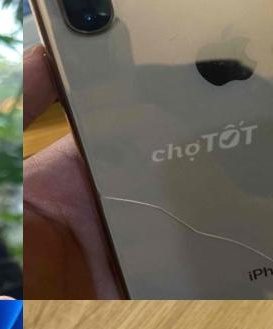physical_damage: (92, 123, 273, 300)
